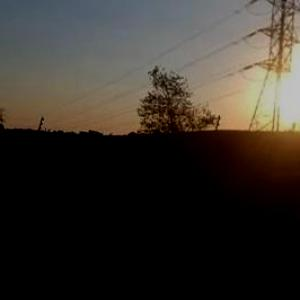follow: (82, 141, 169, 299)
